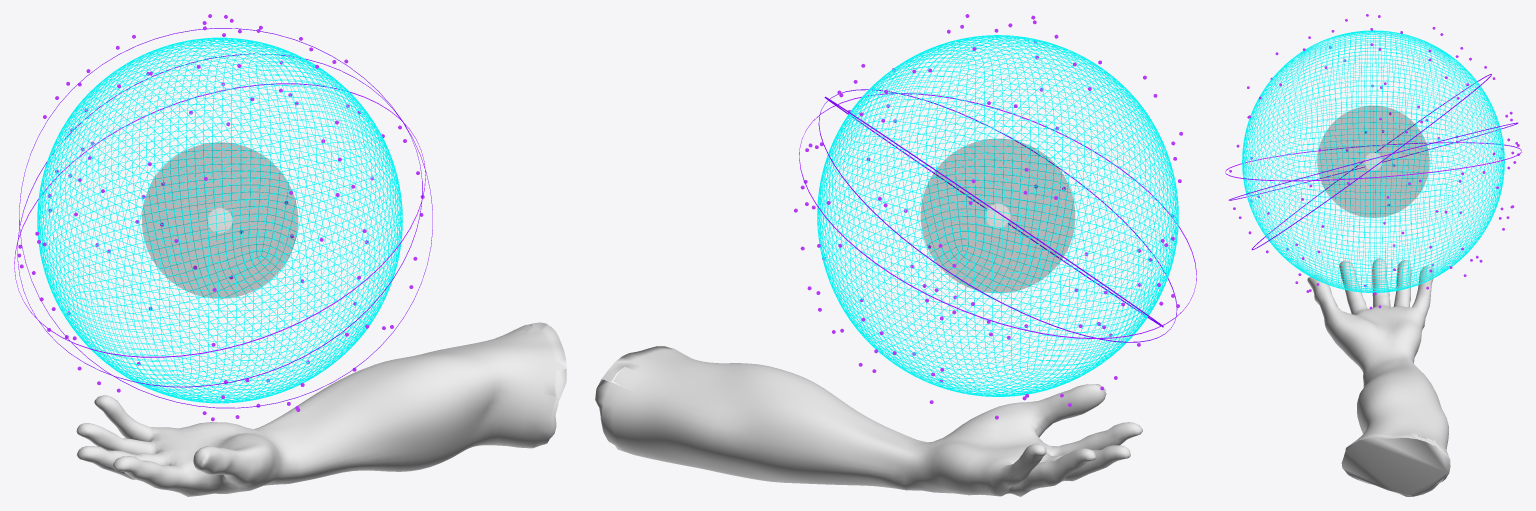
File: AI-core.glb
3 renders of one model, left to right at view 1: azimuth 30°, elevation 25°; view 2: azimuth 150°, elevation 25°; view 3: azimuth 270°, elevation 25°, orthographic. The views are drawn at different scales.
Visible parts, largest first — view 1: Glow Sphere, FinalBaseMesh, inner glow sphere.001, Torus.001, Torus.002, Torus; view 2: Glow Sphere, FinalBaseMesh, inner glow sphere.001, Torus.001, Torus.002, Torus; view 3: Glow Sphere, FinalBaseMesh, inner glow sphere.001, Torus.001, Torus.002, Torus.
Part boxes in pixels (x1,y1,x2,y2): Glow Sphere: (37,37,402,403); FinalBaseMesh: (76,322,566,496); inner glow sphere.001: (142,142,297,298); Torus.001: (14,83,425,357); Torus.002: (19,28,432,408); Torus: (17,53,422,387); Glow Sphere: (817,35,1178,396); FinalBaseMesh: (595,346,1142,496); inner glow sphere.001: (921,139,1074,292); Torus.001: (799,93,1196,338); Torus.002: (824,96,1163,327); Torus: (818,89,1177,342); Glow Sphere: (1242,30,1504,292); FinalBaseMesh: (1307,258,1450,496); inner glow sphere.001: (1317,106,1429,217); Torus.001: (1225,142,1521,181); Torus.002: (1251,74,1491,250); Torus: (1228,122,1518,200).
Bounding box in the file's own units: 4.53 × 3.98 × 3.01.
